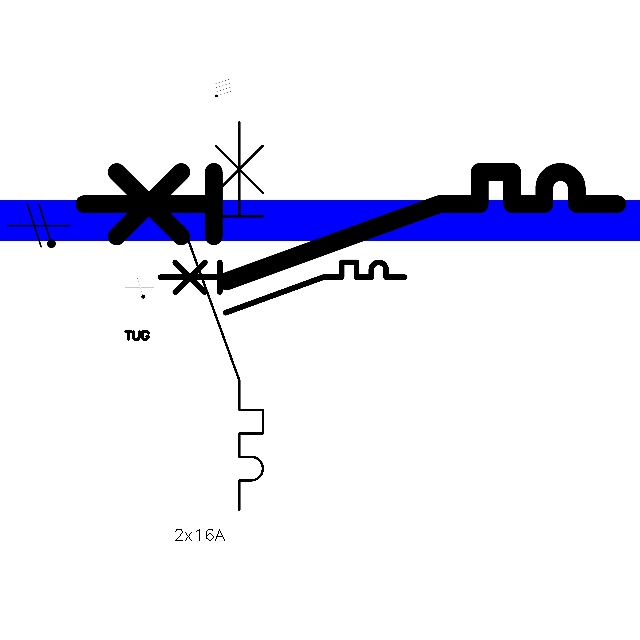interruptor_termomagnetico: (70, 158, 631, 295), (173, 112, 273, 520), (154, 256, 411, 319)
